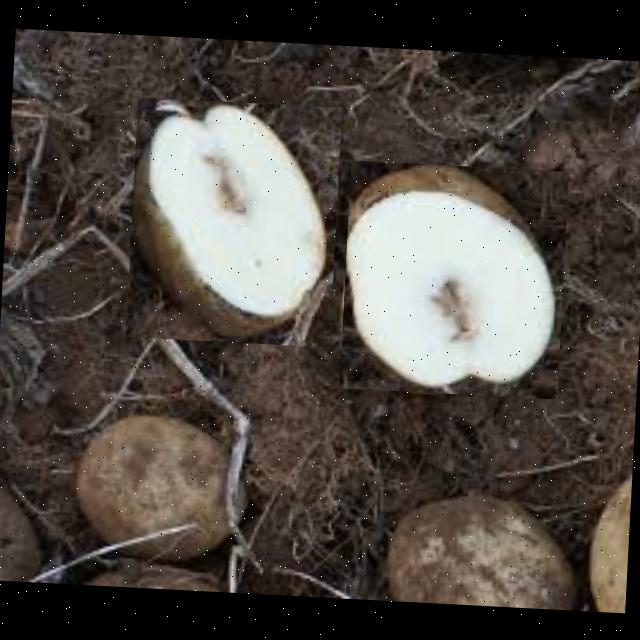Defected potato: (338, 159, 568, 399), (125, 96, 342, 346)
